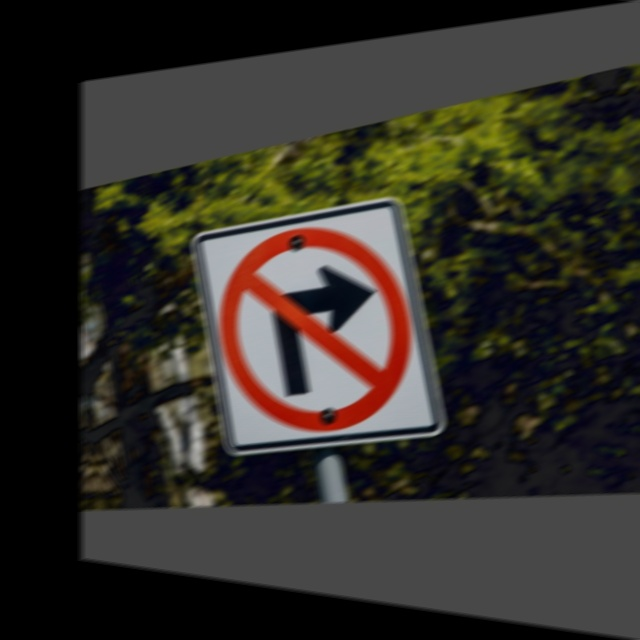Right_Turn_Prohibited: (205, 206, 431, 452)
